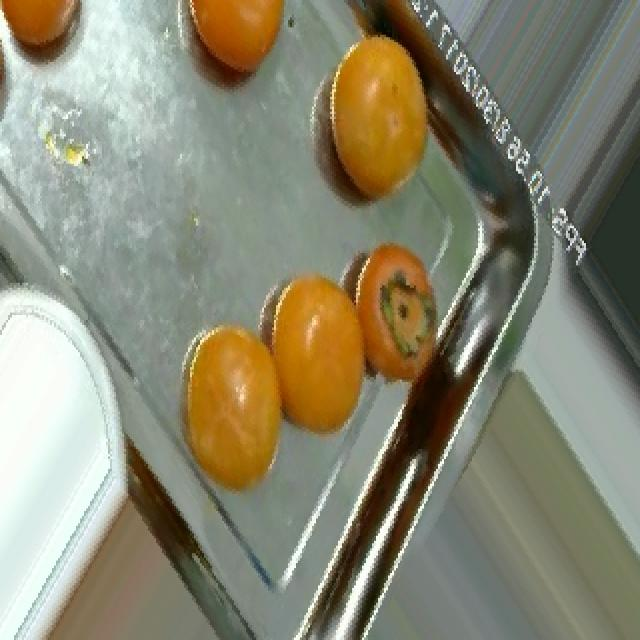Fruit: (298, 10, 470, 236), (160, 300, 314, 524), (164, 0, 304, 112), (0, 0, 102, 89)
